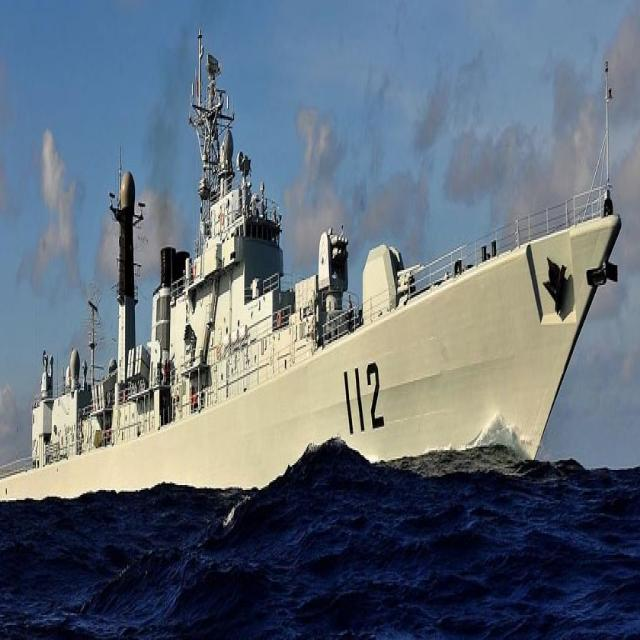navalvessels: (3, 23, 622, 552)
